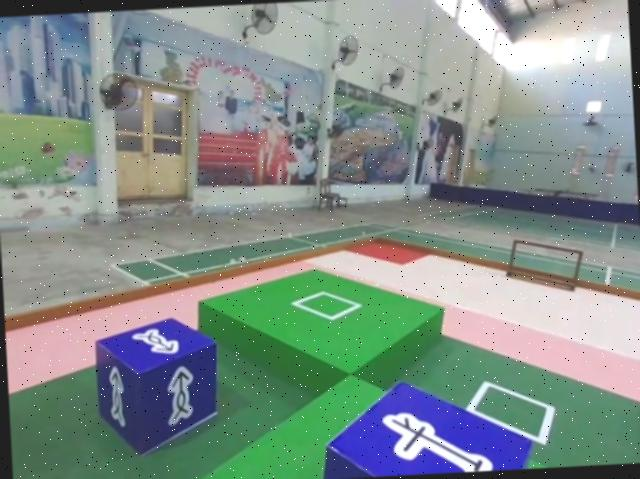R2 Real Blue: (314, 369, 534, 479), (92, 316, 221, 459)
